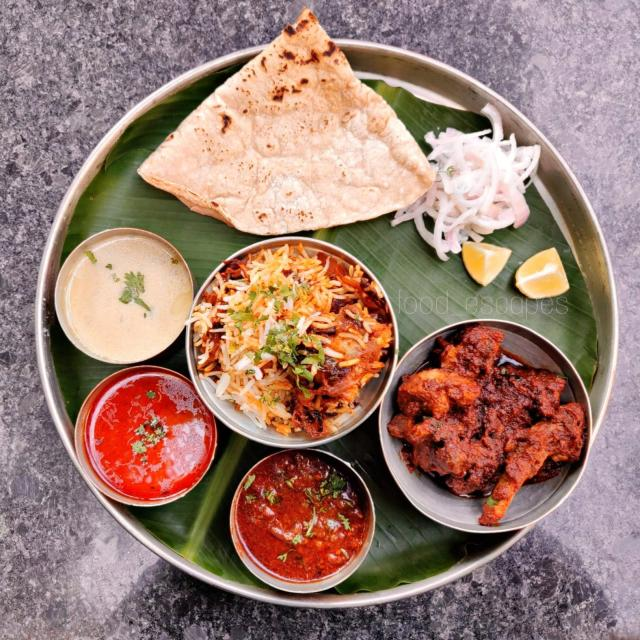non veg meals: (37, 1, 600, 600)
